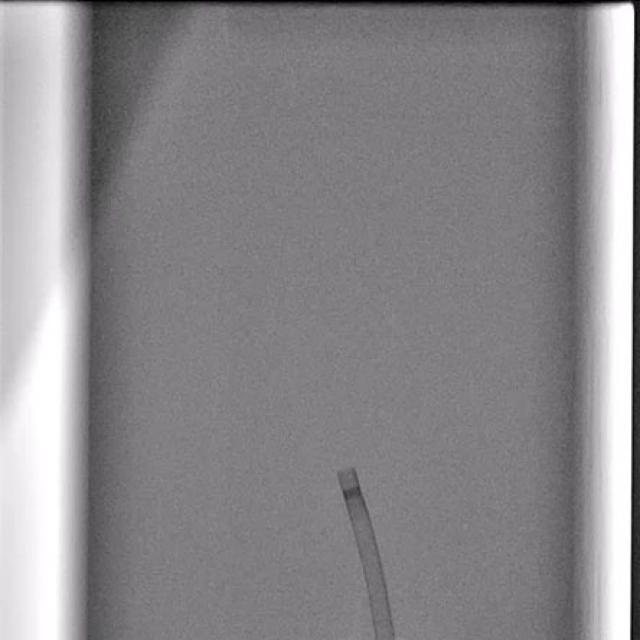entry: (374, 634, 396, 640)
marker: (342, 486, 363, 500)
tip: (337, 470, 357, 483)
